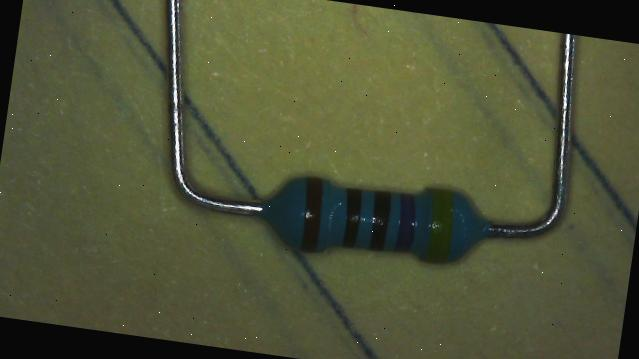black: (366, 189, 392, 251), (339, 188, 364, 247)
brown: (296, 176, 326, 252)
resistor: (246, 147, 510, 290)
violet: (392, 193, 419, 252)
yellow: (422, 187, 456, 262)
